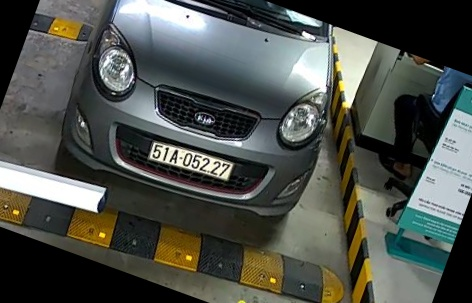plate: (146, 134, 238, 186)
